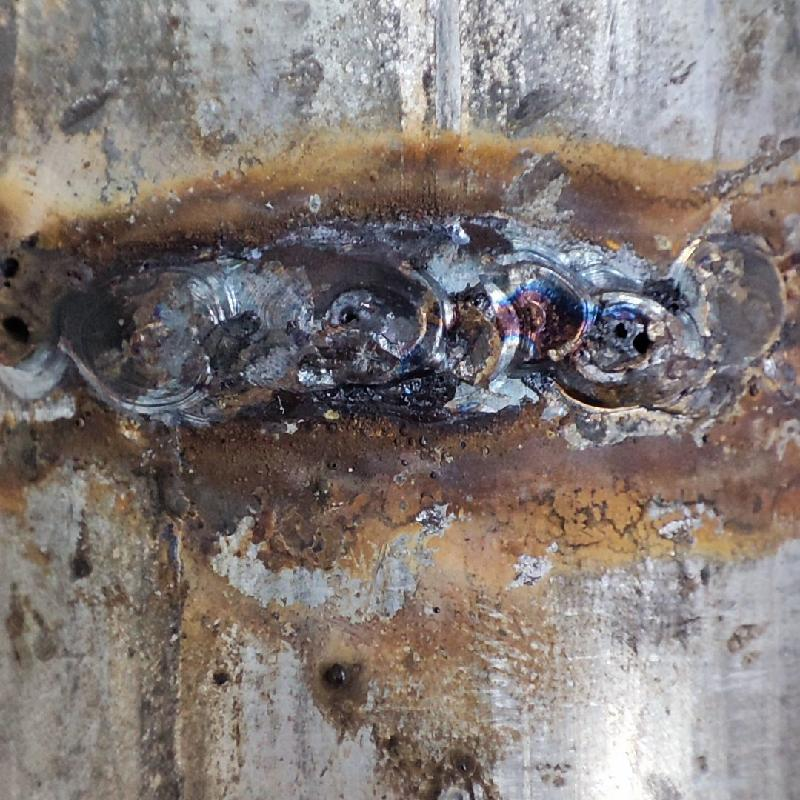Surface_pores: (599, 305, 680, 375)
crater: (0, 235, 798, 427)
